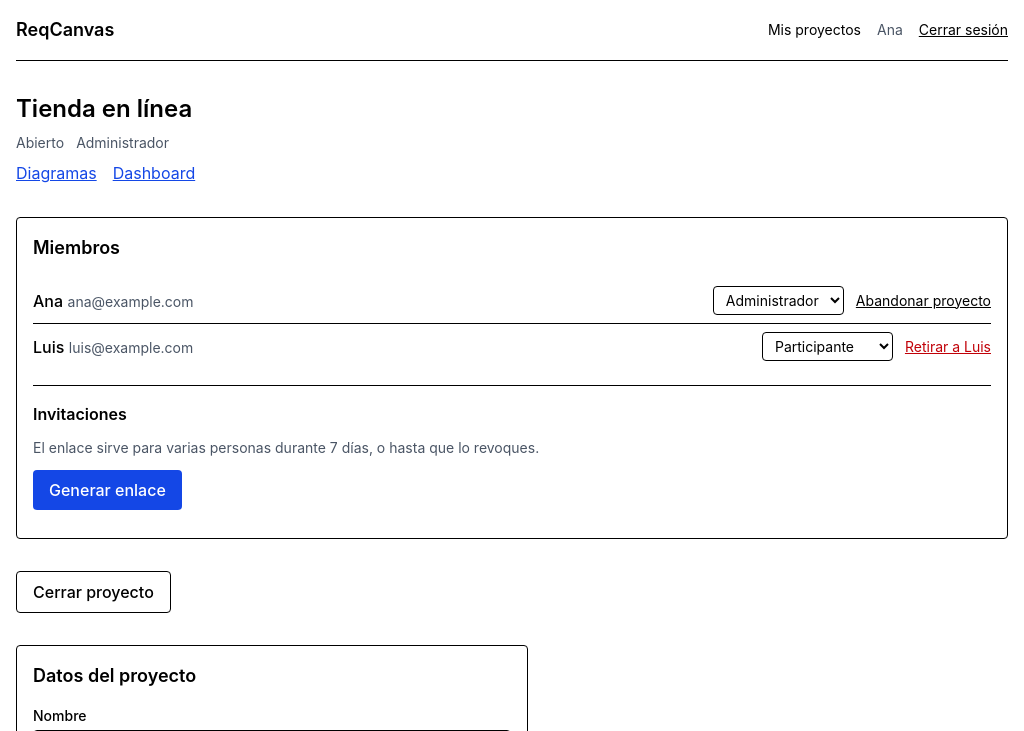
Test case: MembersPanel (Administrador) › retira a un miembro (US3 escenario 4)
Click the button "Retirar a Luis" at point(948, 346), box [905,336,991,356]
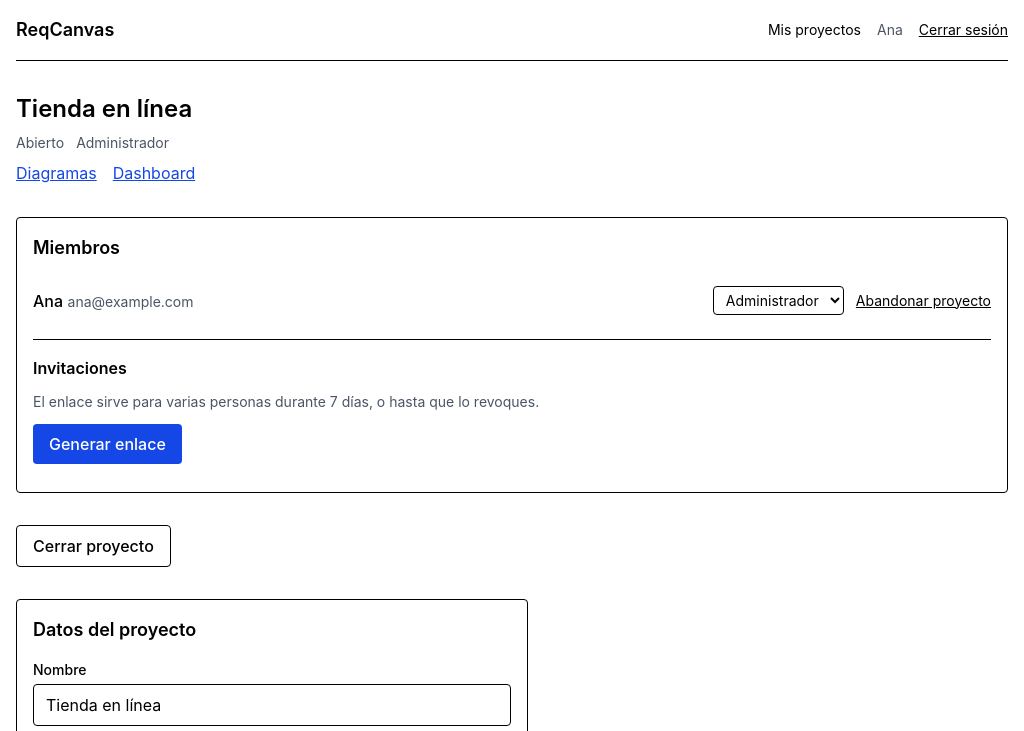
Result: the text "Luis" is gone
